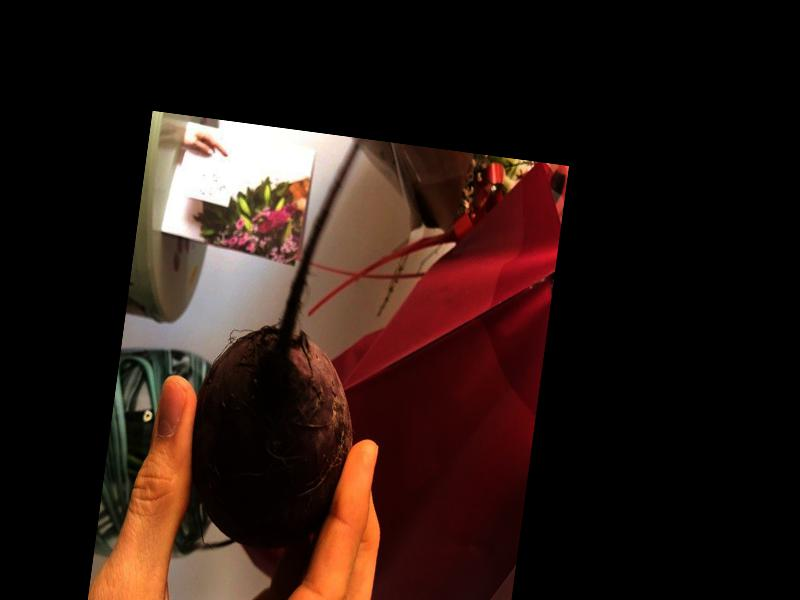Beet: (177, 121, 391, 563)
